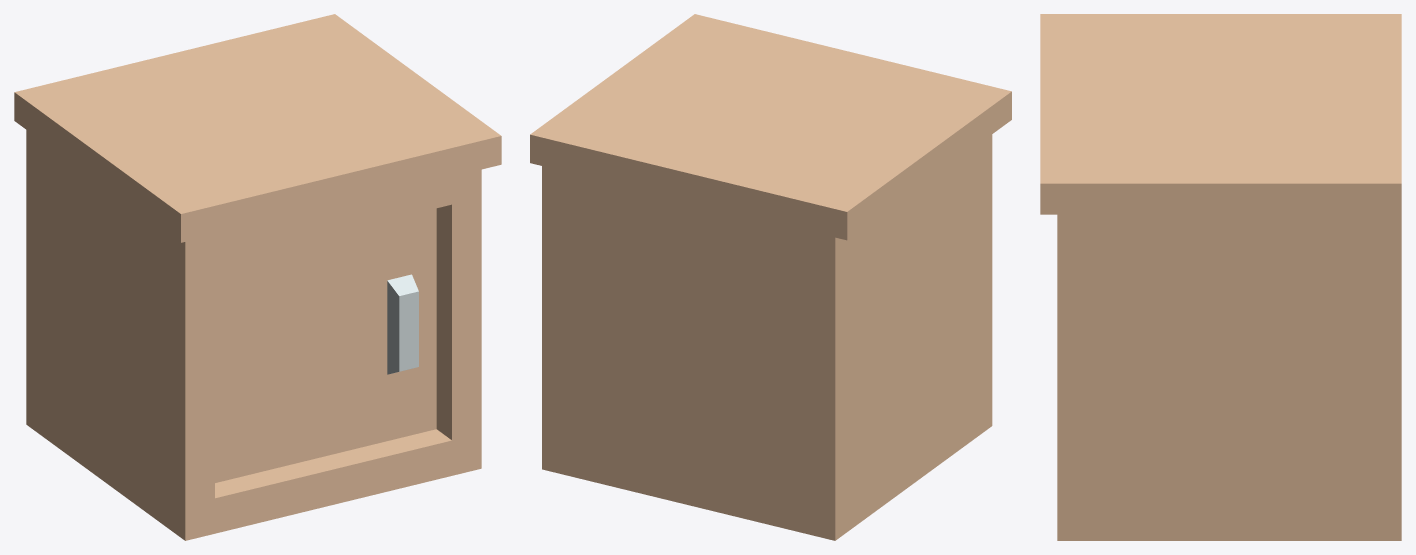
The model's file is square.glb.
3 views of the same model, side by side, from view 1: azimuth 30°, elevation 25°; view 2: azimuth 150°, elevation 25°; view 3: azimuth 270°, elevation 25° (orthographic). The views are drawn at different scales.
Parts seen in each view (by area): view 1: side-table-square-body, side-table-top, side-table-square-door, side-table-square-handle; view 2: side-table-square-body, side-table-top; view 3: side-table-square-body, side-table-top.
Part boxes in pixels (x1,y1,x2,y2): side-table-square-body: [14, 92, 501, 540]; side-table-top: [14, 14, 500, 213]; side-table-square-door: [215, 208, 436, 482]; side-table-square-handle: [387, 274, 418, 374]; side-table-square-body: [530, 91, 1011, 540]; side-table-top: [530, 14, 1011, 211]; side-table-square-body: [1040, 183, 1401, 540]; side-table-top: [1040, 14, 1401, 183].
Size of the model in its own units: 0.5 by 0.5 by 0.45.
